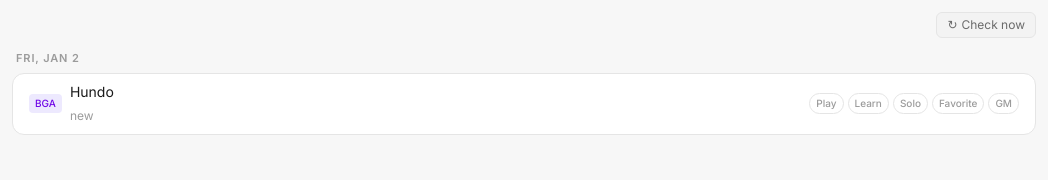
Scenario: NewGamesPanel › shows the check error without losing the already-loaded list
Expected: the link "Hundo" is shown, [70,82,114,100]
What coordinates should you click on to do the following:
click the button "↻ Check now"
I would click on:
 (986, 25)
Its box is [936,12,1036,38].
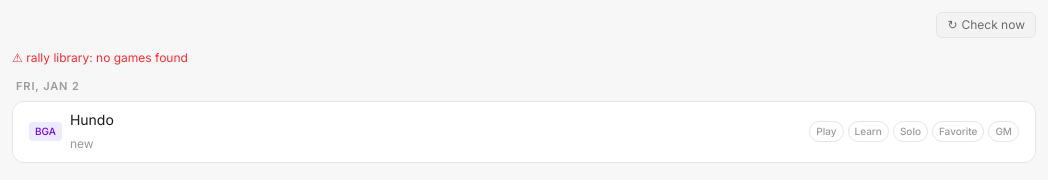
Expected: the link "Hundo" is shown, [70,110,114,128]
Result: the text "⚠ rally library: no games found" is shown at [12,50,188,65]
